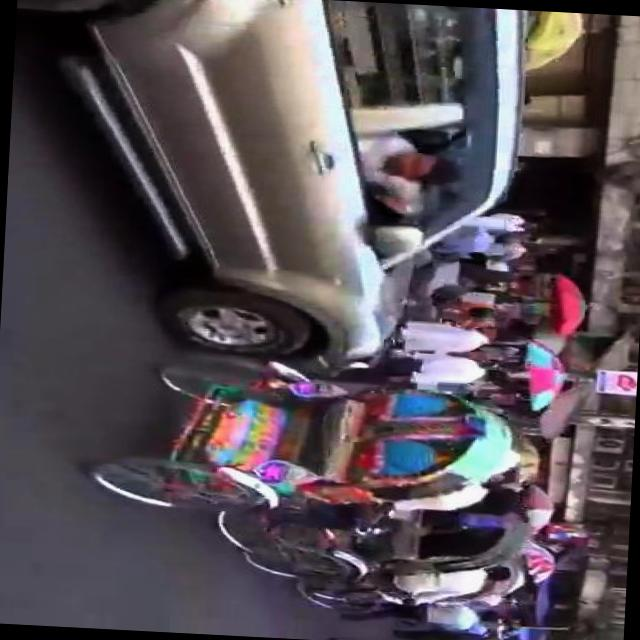motorcycle: (80, 345, 516, 573), (296, 474, 536, 624)
truck: (4, 0, 539, 386)
